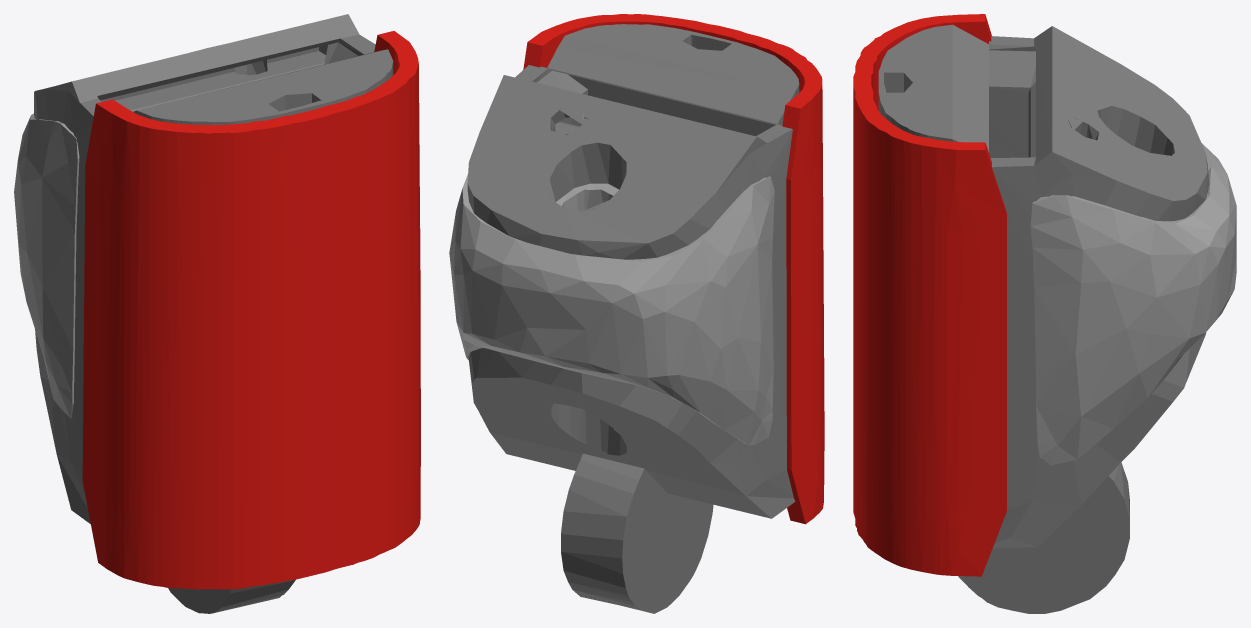
File: Index Medial.dae
3 views of the same model, side by side, from view 1: azimuth 30°, elevation 25°; view 2: azimuth 150°, elevation 25°; view 3: azimuth 270°, elevation 25° (orthographic). The views are drawn at different scales.
Parts seen in each view (by area): view 1: Index_Medial_Cover-reduced, Index_Medial_Phalanx-reduced, Index_Medial_Pad-reduced; view 2: Index_Medial_Phalanx-reduced, Index_Medial_Pad-reduced, Index_Medial_Cover-reduced; view 3: Index_Medial_Phalanx-reduced, Index_Medial_Cover-reduced, Index_Medial_Pad-reduced.
Boxes of the visible parts, left/top/right/bottom form: Index_Medial_Cover-reduced: left=82, top=31, right=420, bottom=589; Index_Medial_Phalanx-reduced: left=34, top=14, right=393, bottom=613; Index_Medial_Pad-reduced: left=14, top=113, right=79, bottom=418; Index_Medial_Phalanx-reduced: left=467, top=24, right=799, bottom=613; Index_Medial_Pad-reduced: left=449, top=174, right=774, bottom=445; Index_Medial_Cover-reduced: left=523, top=14, right=824, bottom=524; Index_Medial_Phalanx-reduced: left=878, top=24, right=1209, bottom=613; Index_Medial_Cover-reduced: left=853, top=14, right=1006, bottom=576; Index_Medial_Pad-reduced: left=1030, top=143, right=1236, bottom=465.
Size of the model in its own units: 0.0184 by 0.0212 by 0.0315.
